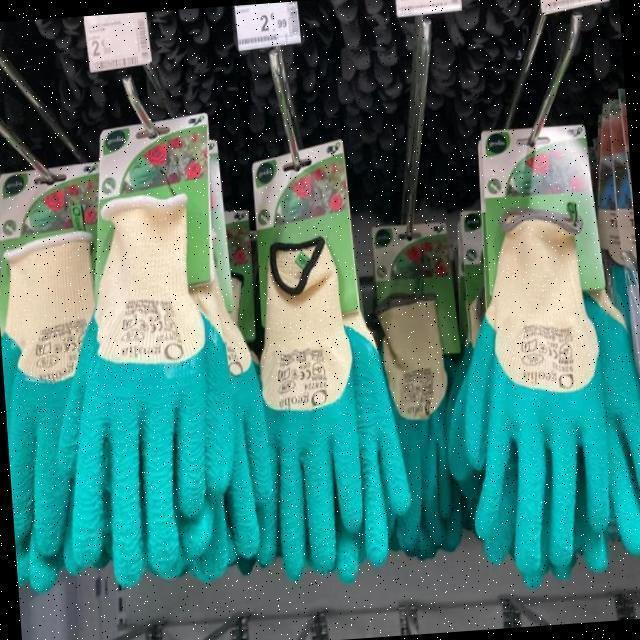Gloves: (470, 268, 626, 575), (74, 276, 226, 556), (239, 290, 394, 548)
